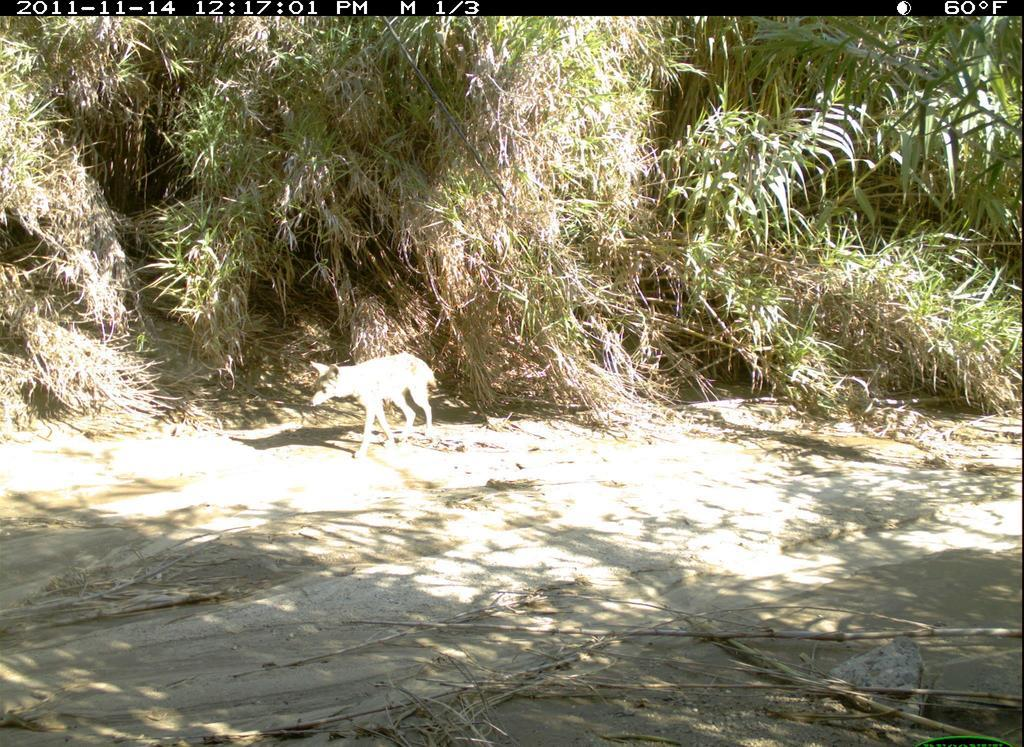coyote: (304, 342, 457, 459)
